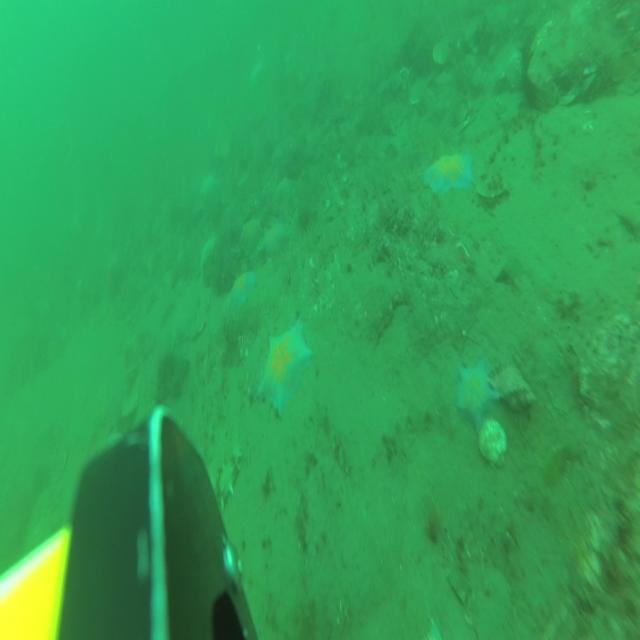echinus: (525, 74, 544, 112), (520, 38, 539, 73)
holothurian: (208, 446, 242, 526)
scallop: (481, 419, 508, 466), (432, 39, 451, 66), (190, 314, 208, 341), (122, 390, 139, 418)
starfish: (256, 312, 312, 418), (458, 356, 498, 438), (424, 152, 474, 196), (226, 270, 257, 318), (260, 223, 290, 255), (240, 216, 262, 256), (276, 172, 298, 203), (199, 236, 216, 272)
